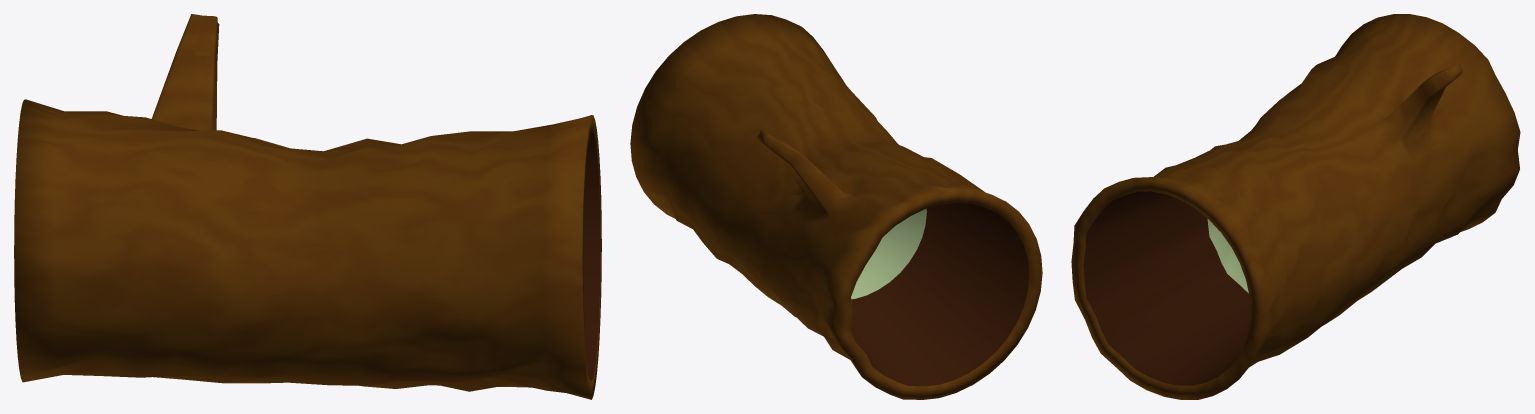
File: supaljpanj2.fbx
The picture shows the model from 3 angles, left to right: view 1: azimuth 30°, elevation 25°; view 2: azimuth 150°, elevation 25°; view 3: azimuth 270°, elevation 25°; orthographic projection. The views are drawn at different scales.
Visible parts, largest first — view 1: suplje2; view 2: suplje2; view 3: suplje2.
Boxes of the visible parts, x1,y1,x2,y2 form: suplje2: (14, 14, 601, 399); suplje2: (630, 14, 1042, 399); suplje2: (1071, 14, 1520, 399).
Bounding box in the file's own units: 174 × 89.84 × 150.
3 materials, 1 textured.
